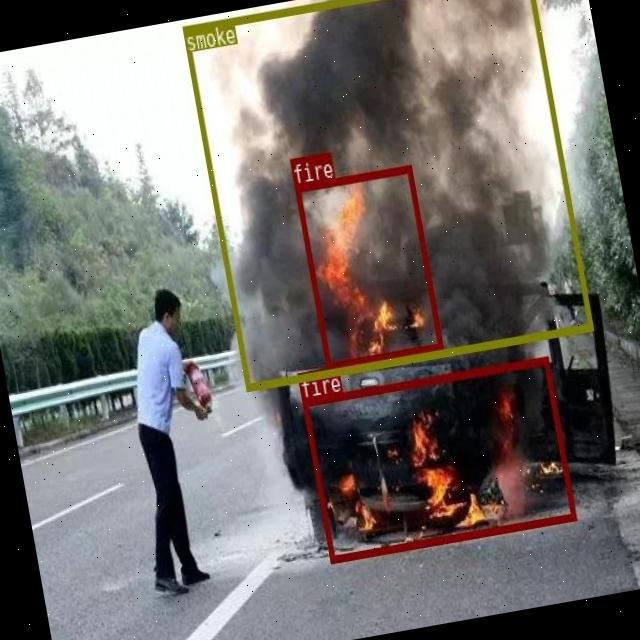fire: (302, 354, 576, 562), (294, 163, 443, 370)
smoke: (182, 0, 592, 389)
